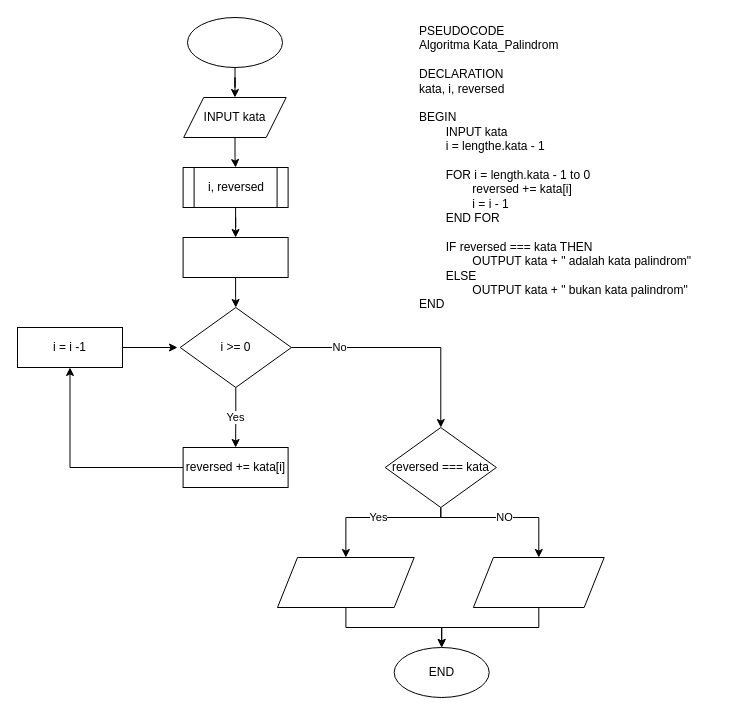
The diagram is 735 pixels wide and 715 high, and some of its shapes have lost their labels. The box of each missing label's shape, as (x1, y1, x2, y2) in pixels:
i = length.kata - 1: (182, 236, 288, 278)
OUTPUT kata, " adalah kata palindrom": (276, 556, 414, 608)
OUTPUT kata, " bukan kata palindrom": (472, 556, 604, 608)
START: (186, 16, 282, 68)
